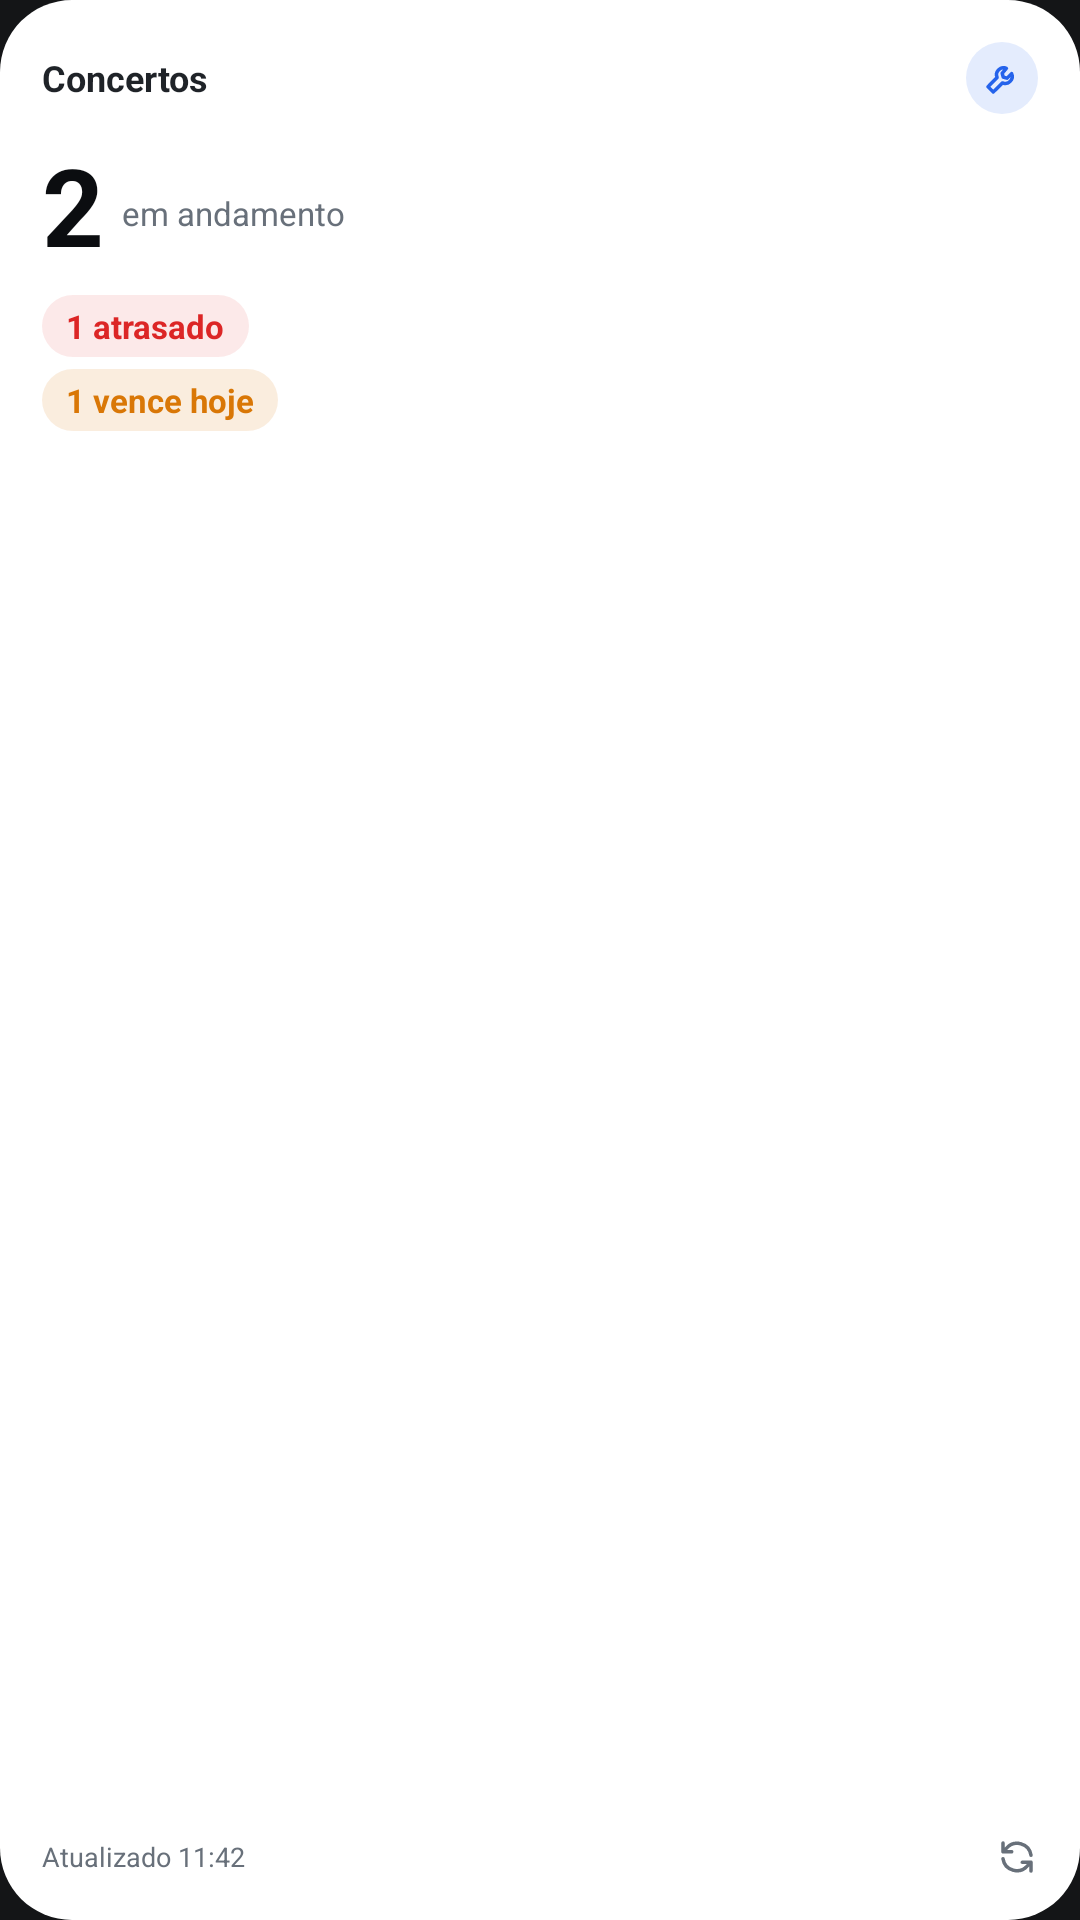

Icons on this 1080 x 1920 Android screen, each with the point to tap as (x=x, y=y):
atualizar: (x=1017, y=1857)
